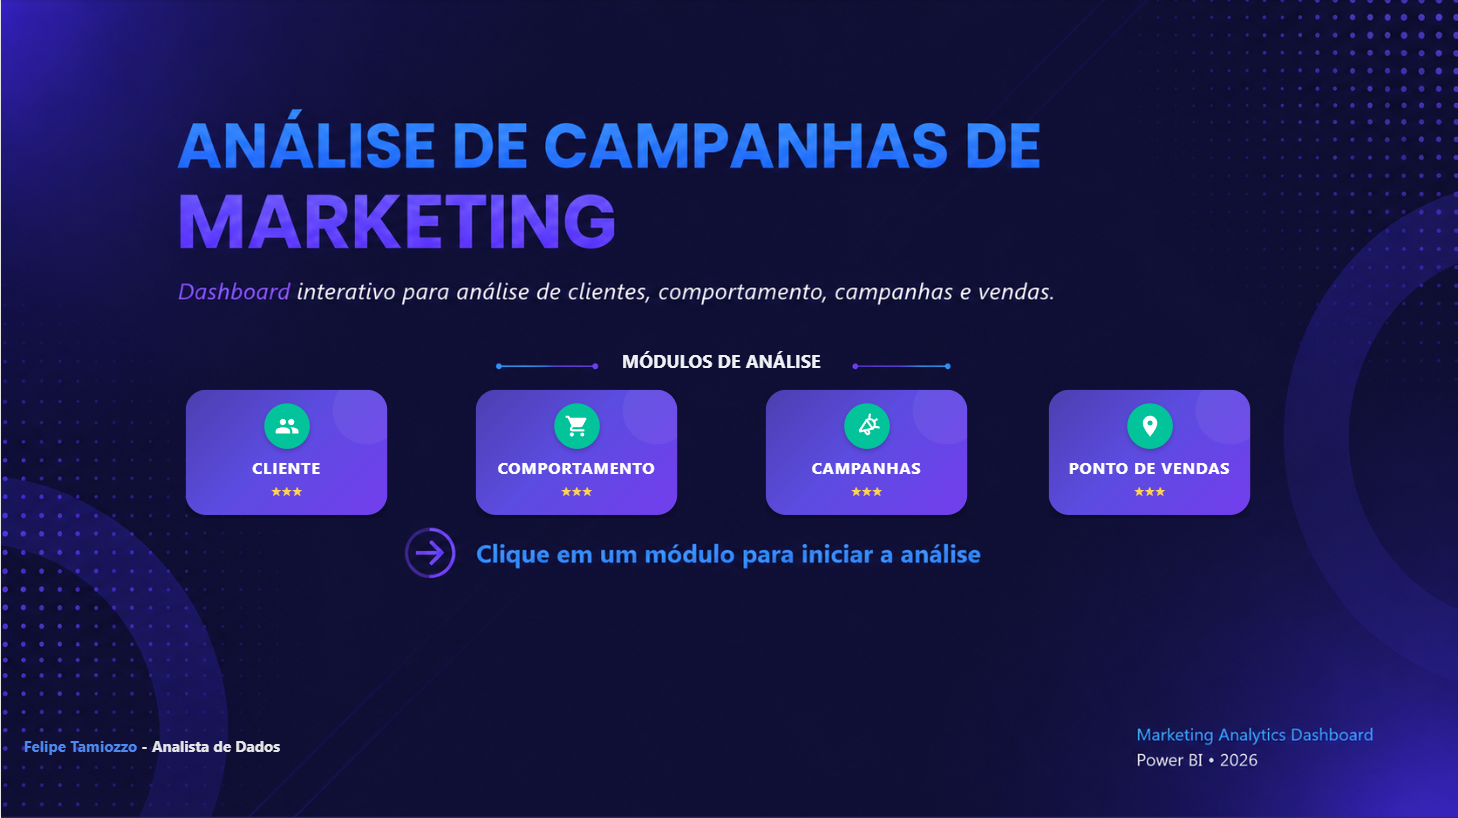

This screenshot's page, from the dashboard's own definition file:
{"tool":"powerbi","page":{"name":"Dashboard Marketing","canvas":[1280,720],"ordinal":0},"visuals":[{"type":"textbox","box":[540,302,200,38],"z":0},{"type":"textbox","box":[15,642,237,40],"z":1000},{"type":"htmlContent443BE3AD55E043BF878BED274D3A6855","fields":{"content":["Medidas.Botao HTML Cliente"]},"box":[157.3,338.3,187.4,123.4],"z":2000},{"type":"htmlContent443BE3AD55E043BF878BED274D3A6855","fields":{"content":["Medidas.Botao HTML Comportamento"]},"box":[411.4,338.3,187.4,123.4],"z":3000},{"type":"htmlContent443BE3AD55E043BF878BED274D3A6855","fields":{"content":["Medidas.Botao HTML Campanhas"]},"box":[666.5,338.3,187.4,123.4],"z":4000},{"type":"htmlContent443BE3AD55E043BF878BED274D3A6855","fields":{"content":["Medidas.Botao HTML Ponto Vendas"]},"box":[915.2,338.3,187.4,123.4],"z":5000},{"type":"actionButton","box":[411.4,340.1,187.4,121.6],"z":6000},{"type":"actionButton","box":[915.2,340.1,187.4,121.6],"z":7000},{"type":"actionButton","box":[157.3,340.1,187.4,121.6],"z":8000},{"type":"actionButton","box":[666.5,340.1,187.4,121.6],"z":9000}]}

Visuals, with their boxes in screenshot pixels (x1, y1, x2, y2), scaled from the page's 1280x720 canvas onto the 1458x818 screenshot:
textbox: bbox=(615, 343, 843, 386)
textbox: bbox=(17, 729, 287, 775)
htmlContent443BE3AD55E043BF878BED274D3A6855 - Medidas.Botao HTML Cliente: bbox=(179, 384, 393, 525)
htmlContent443BE3AD55E043BF878BED274D3A6855 - Medidas.Botao HTML Comportamento: bbox=(469, 384, 682, 525)
htmlContent443BE3AD55E043BF878BED274D3A6855 - Medidas.Botao HTML Campanhas: bbox=(759, 384, 973, 525)
htmlContent443BE3AD55E043BF878BED274D3A6855 - Medidas.Botao HTML Ponto Vendas: bbox=(1042, 384, 1256, 525)
actionButton: bbox=(469, 386, 682, 525)
actionButton: bbox=(1042, 386, 1256, 525)
actionButton: bbox=(179, 386, 393, 525)
actionButton: bbox=(759, 386, 973, 525)
